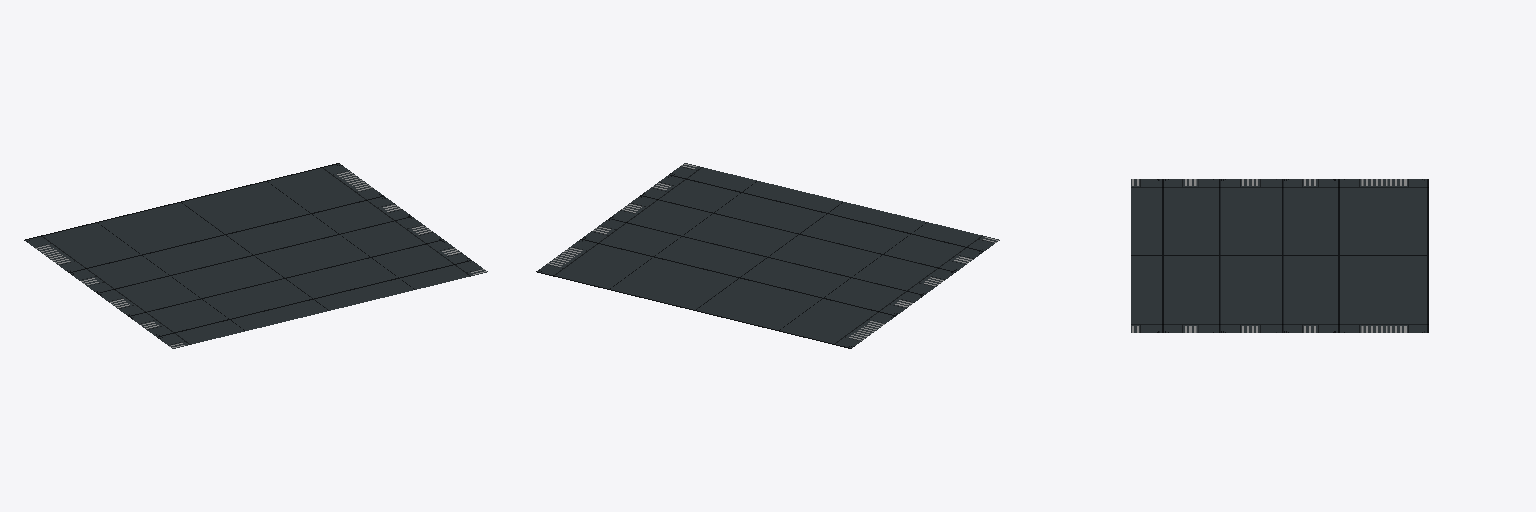
3 renders of one model, left to right at view 1: azimuth 30°, elevation 25°; view 2: azimuth 150°, elevation 25°; view 3: azimuth 270°, elevation 25°, orthographic.
Visible parts, largest first — view 1: グリッド; view 2: グリッド; view 3: グリッド.
Part boxes in pixels (x1,y1,x2,y2): グリッド: (24,163,487,348); グリッド: (536,163,999,348); グリッド: (1131,179,1428,332).
Size of the model in its own units: 122 by 0 by 100.
1 materials, 1 textured.